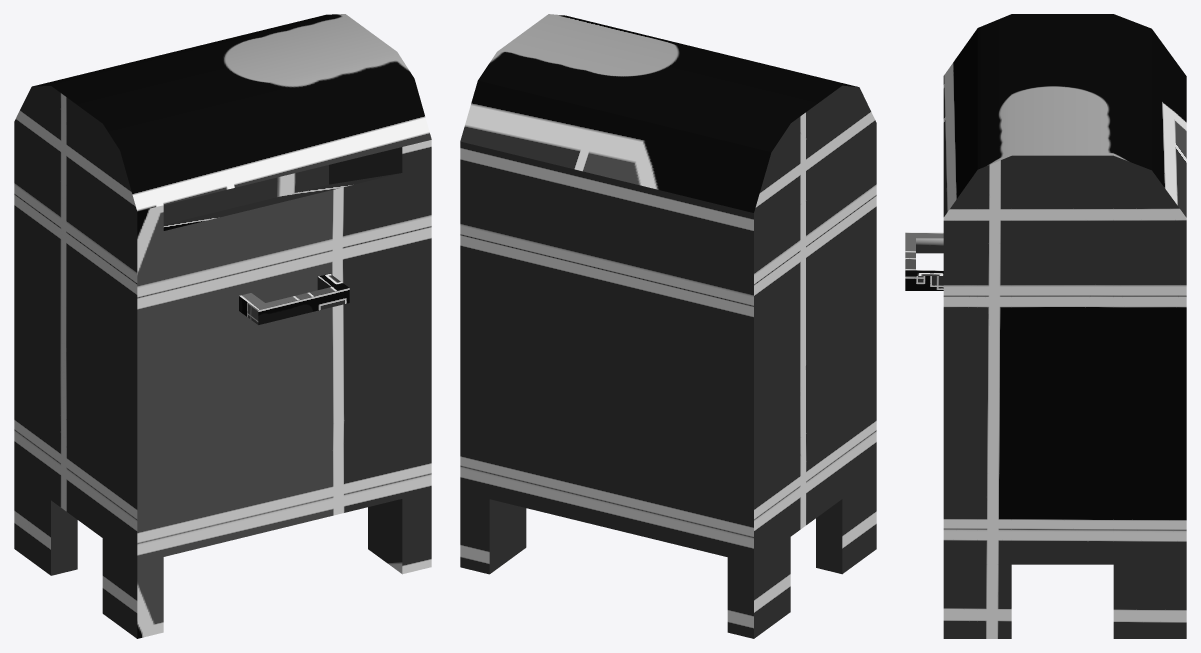
The model's file is MailBoxGGJ 1.fbx.
The picture shows the model from 3 angles, left to right: view 1: azimuth 30°, elevation 25°; view 2: azimuth 150°, elevation 25°; view 3: azimuth 270°, elevation 25°; orthographic projection.
Parts seen in each view (by area): view 1: pCube4; view 2: pCube4; view 3: pCube4.
Part boxes in pixels (bbox=[...]): pCube4: bbox=[14, 14, 431, 638]; pCube4: bbox=[460, 14, 876, 638]; pCube4: bbox=[905, 14, 1186, 638].
Size of the model in its own units: 2.61 by 4.14 by 2.18.
